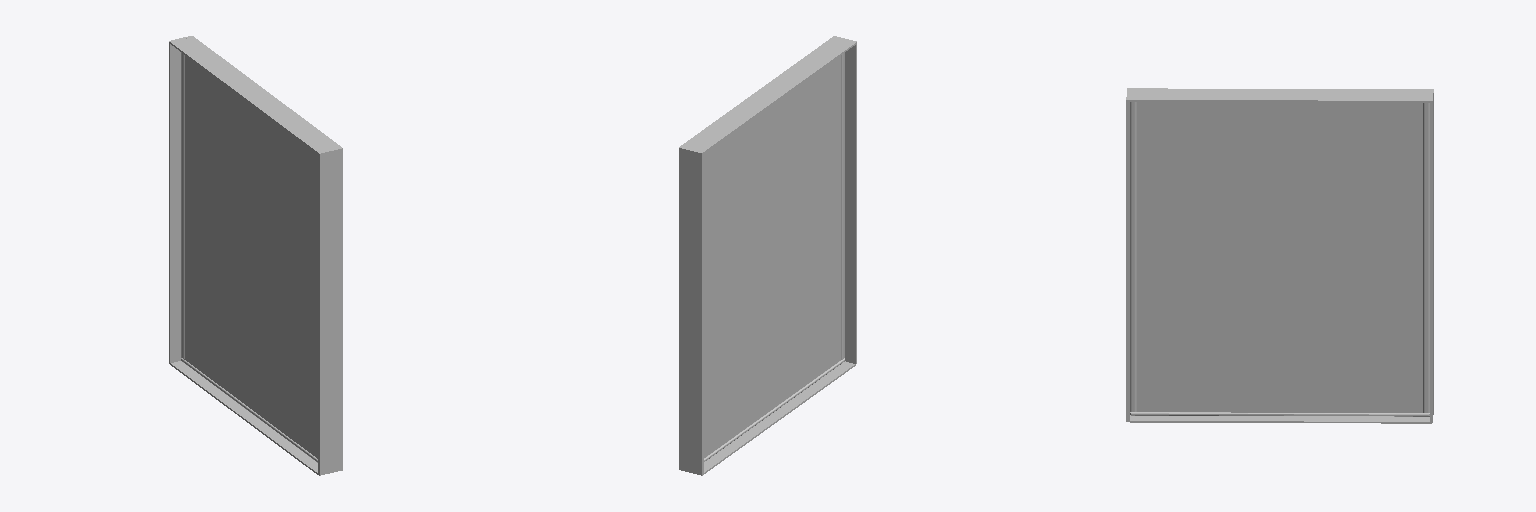
Rendered from Ventana9.obj.
3 views of the same model, side by side, from view 1: azimuth 30°, elevation 25°; view 2: azimuth 150°, elevation 25°; view 3: azimuth 270°, elevation 25° (orthographic).
Visible parts, largest first — view 1: polySurface80; view 2: polySurface80; view 3: polySurface80.
Part boxes in pixels (bbox=[...]): polySurface80: bbox=[169, 36, 342, 475]; polySurface80: bbox=[679, 36, 856, 475]; polySurface80: bbox=[1126, 88, 1433, 423].
Size of the model in its own units: 0.148 by 1.77 by 1.53.